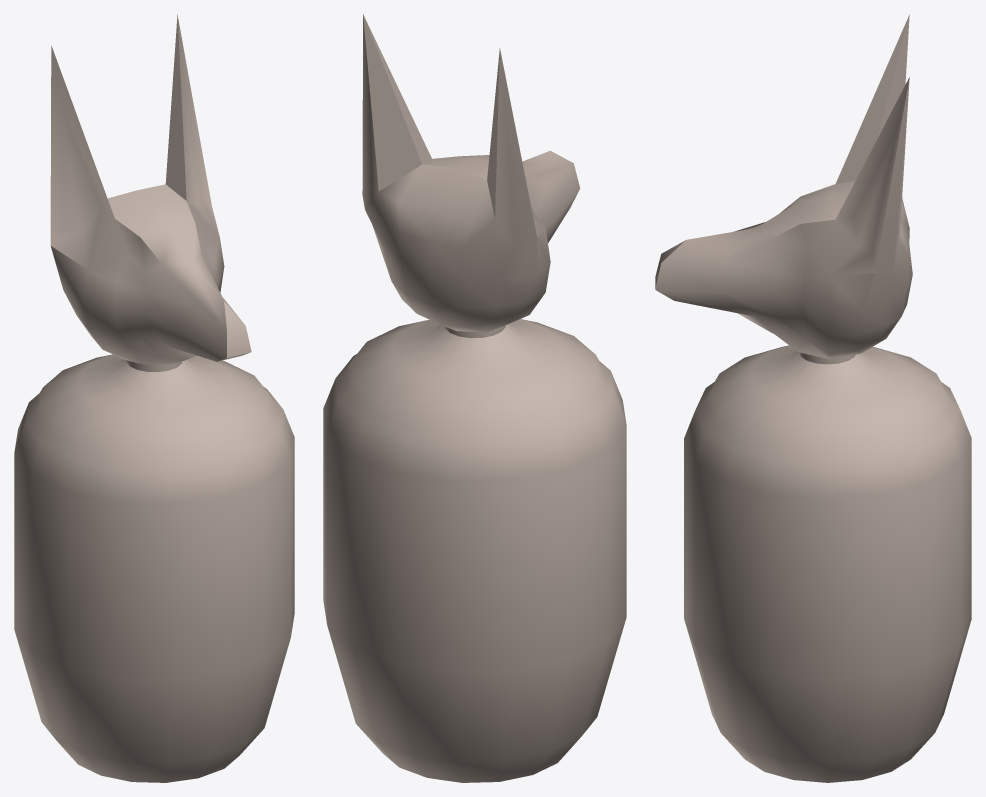
File: Jar.fbx
3 views of the same model, side by side, from view 1: azimuth 30°, elevation 25°; view 2: azimuth 150°, elevation 25°; view 3: azimuth 270°, elevation 25° (orthographic). The views are drawn at different scales.
Visible parts, largest first — view 1: Cube; view 2: Cube; view 3: Cube.
Boxes of the visible parts, <box> form: Cube: <box>14,14,294,782</box>; Cube: <box>323,14,626,782</box>; Cube: <box>655,14,971,782</box>.
Size of the model in its own units: 100 by 269 by 110.
